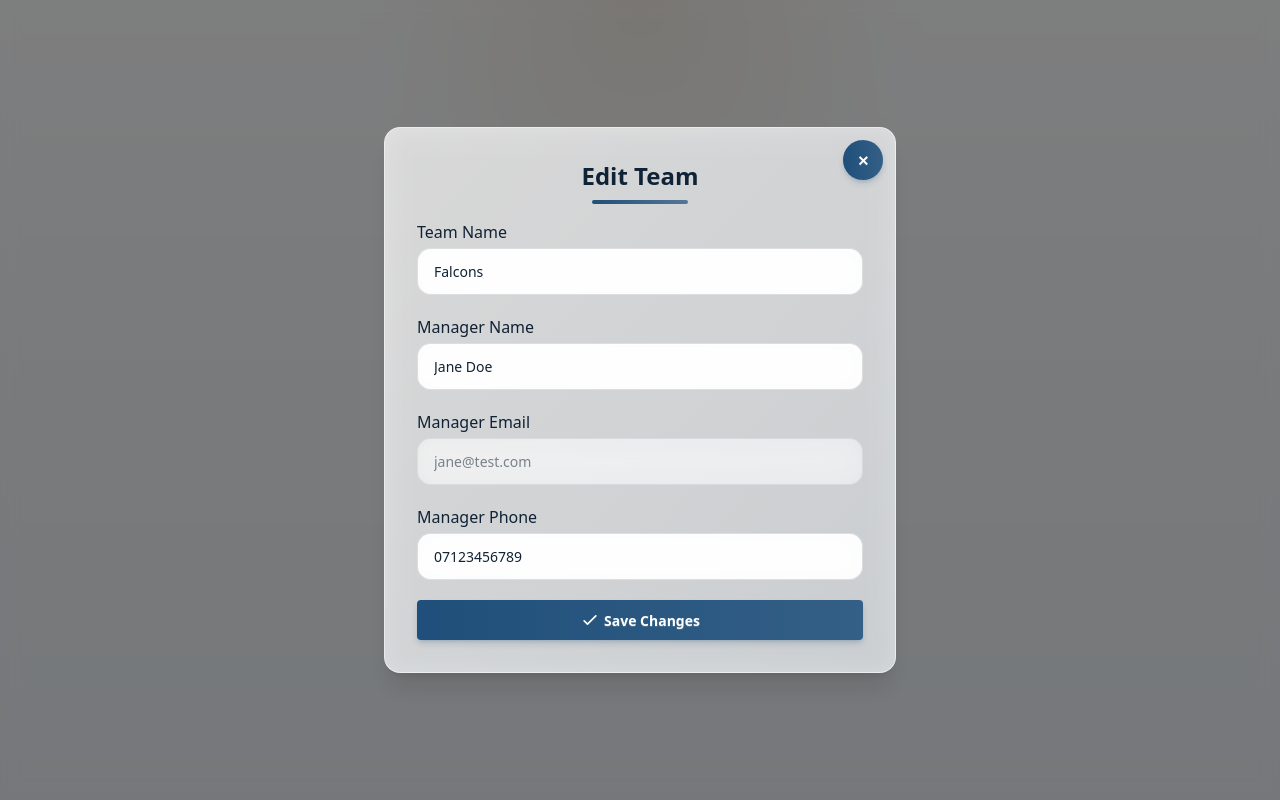
it: TeamEditForm › blocks submit and shows an error for an invalid phone number
Replace the text in the field showing "07123456789" below "Manager Phone" with "123": (640, 556) x1=417 y1=533 x2=863 y2=580
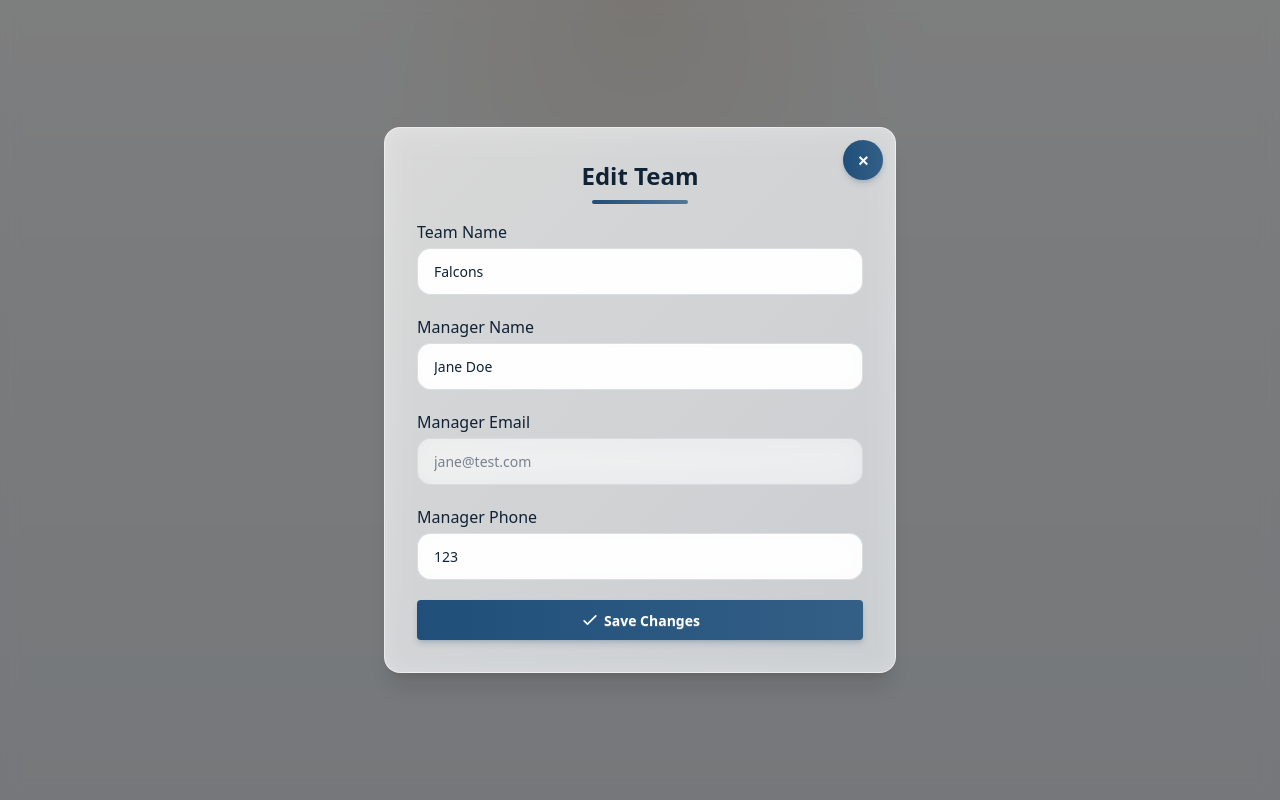
Click the button "Save Changes": click(640, 620) x1=417 y1=600 x2=863 y2=640
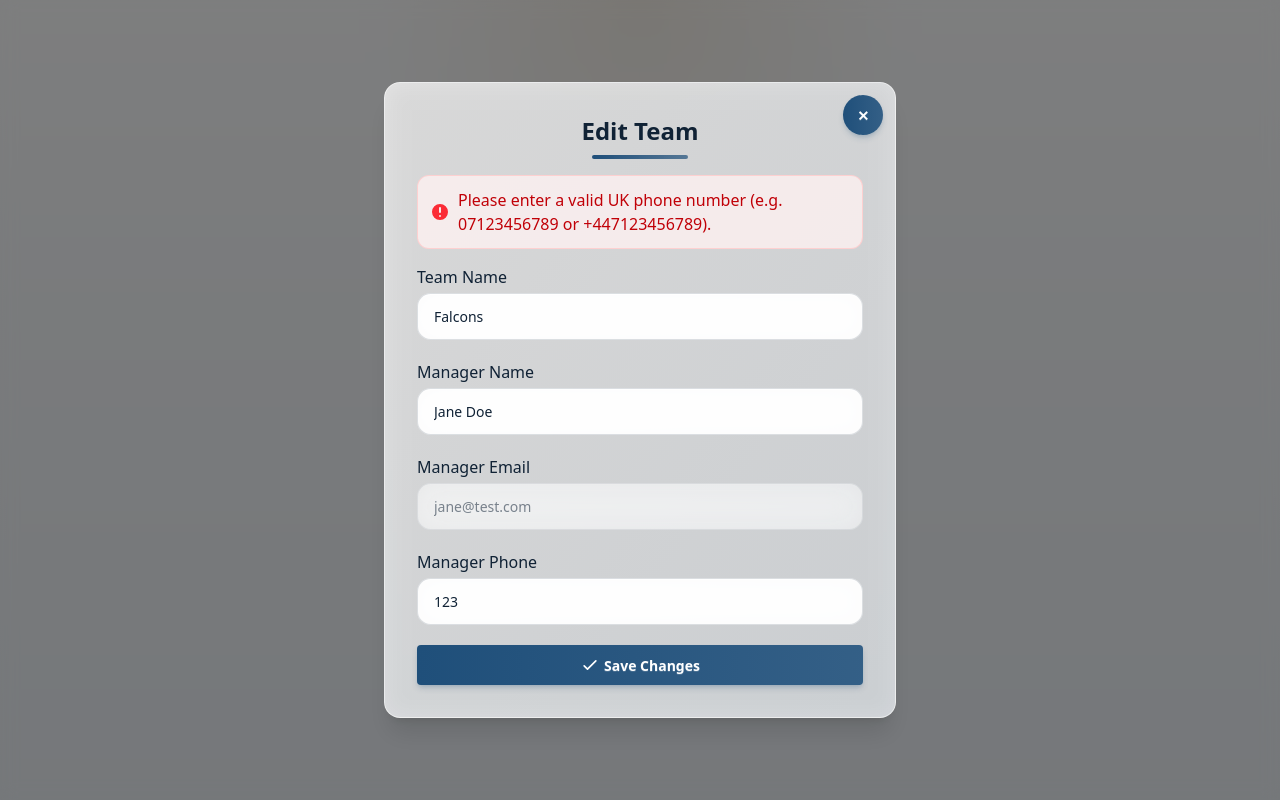
Now the text "valid UK phone number" is shown, box x1=458 y1=189 x2=782 y2=235
